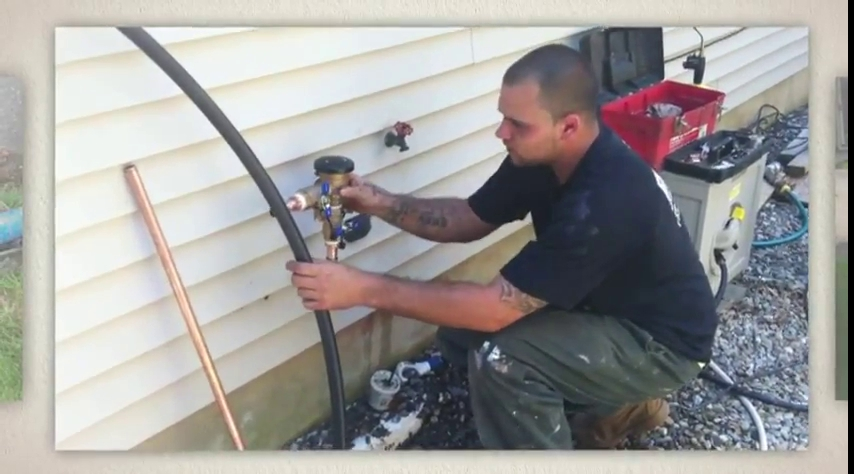person: (286, 44, 719, 450)
